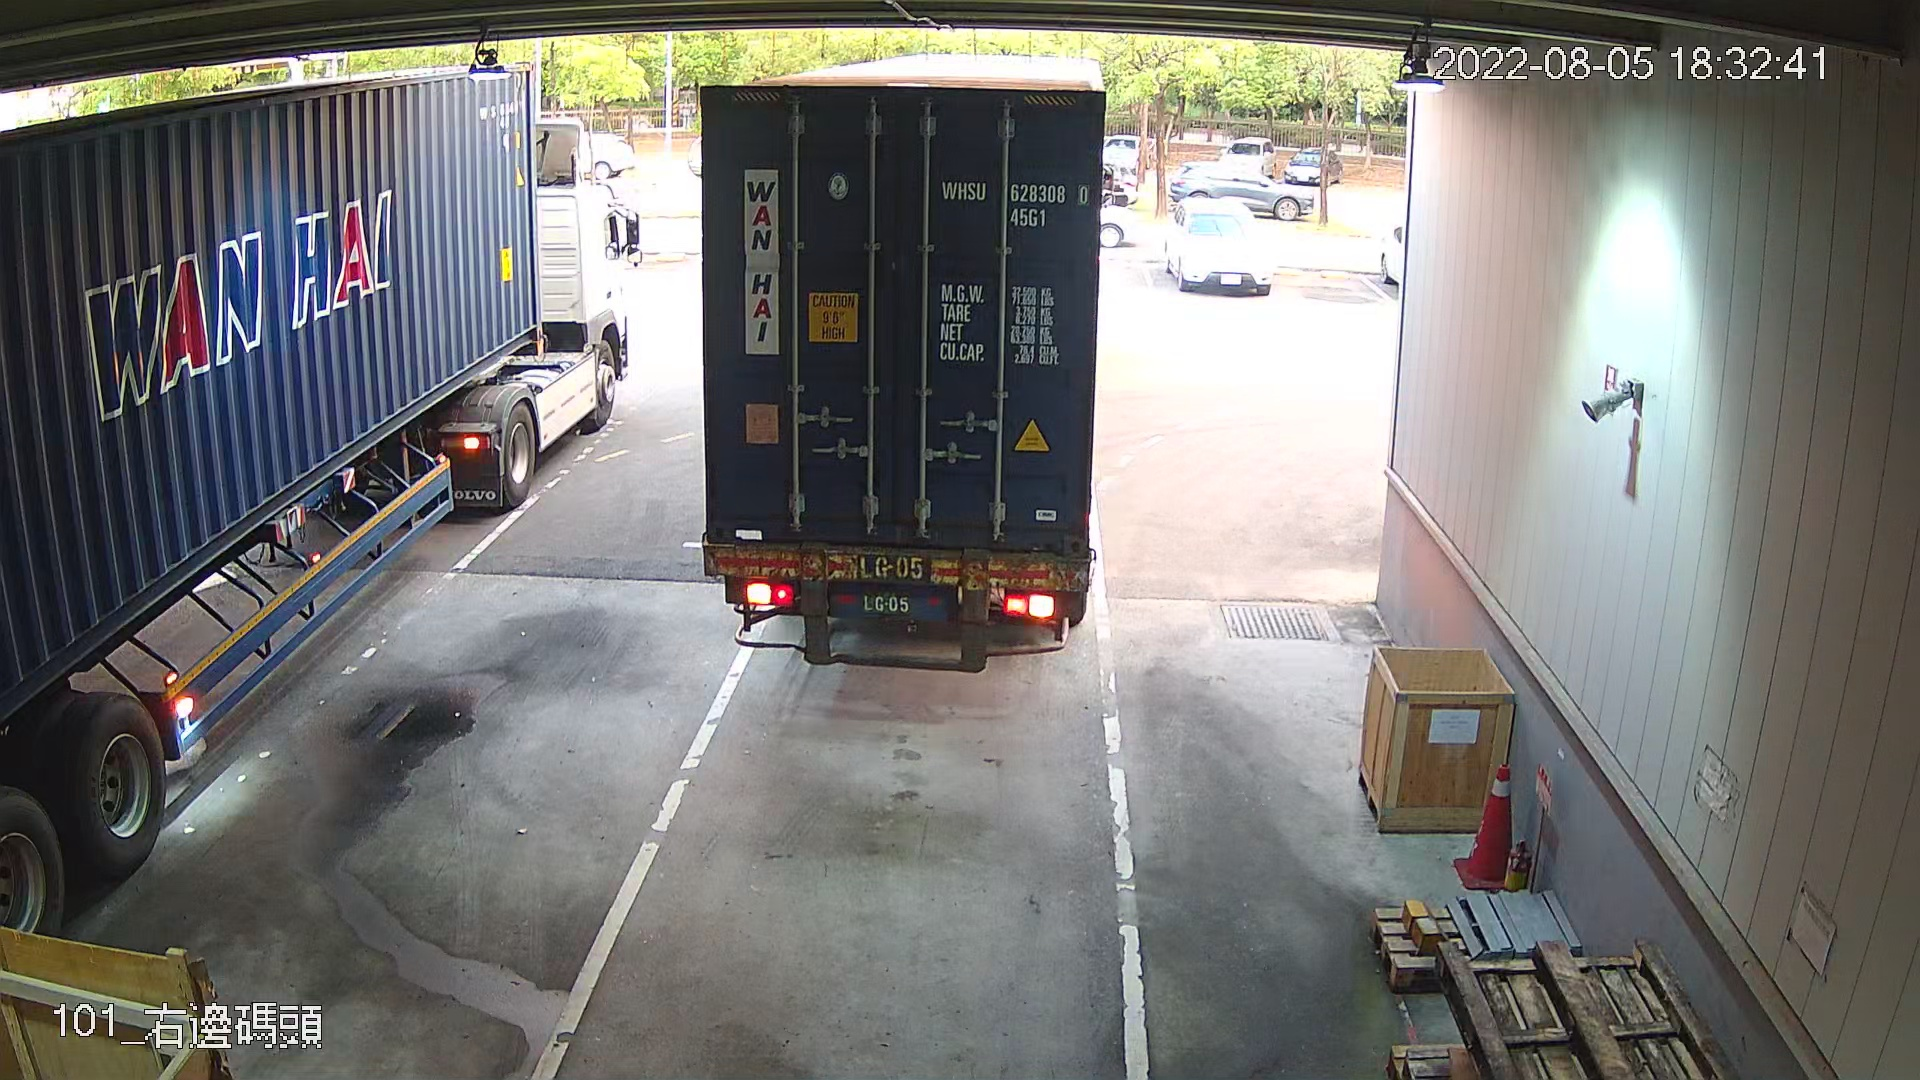container: (934, 169, 1095, 236)
